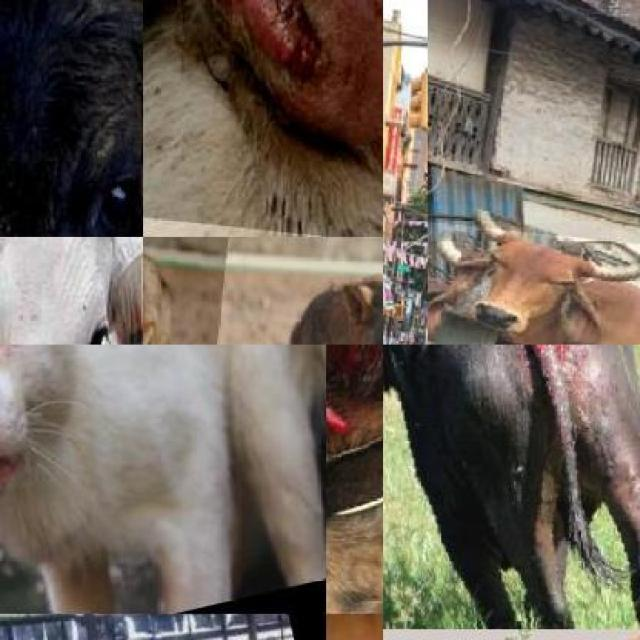buffalo: (383, 345, 640, 629), (0, 0, 143, 237)
cat: (0, 344, 326, 614)
cow: (427, 221, 640, 344)
dog: (143, 0, 383, 237), (225, 244, 383, 344), (143, 237, 234, 345)
injured: (172, 0, 318, 74), (326, 344, 383, 522), (508, 345, 609, 440), (0, 344, 34, 510)
